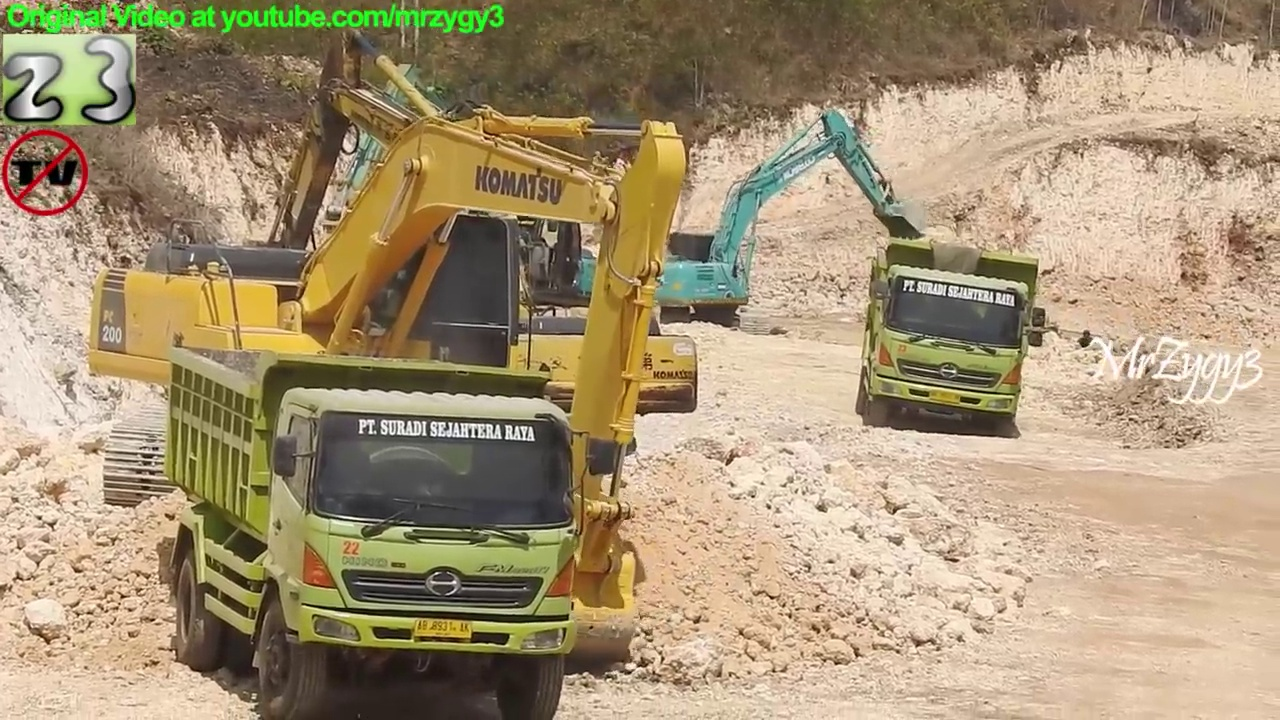excavator: (82, 93, 695, 675), (172, 20, 705, 489), (306, 52, 623, 337), (617, 102, 931, 343)
truck: (160, 333, 630, 720), (853, 230, 1054, 443)
